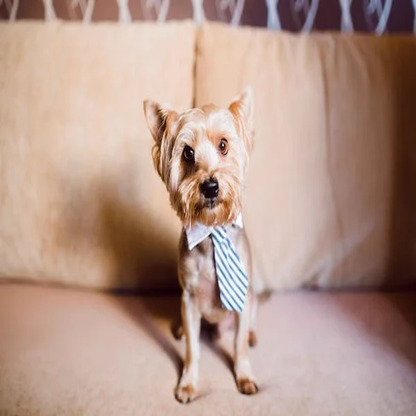yorkshire: (141, 86, 261, 402)
